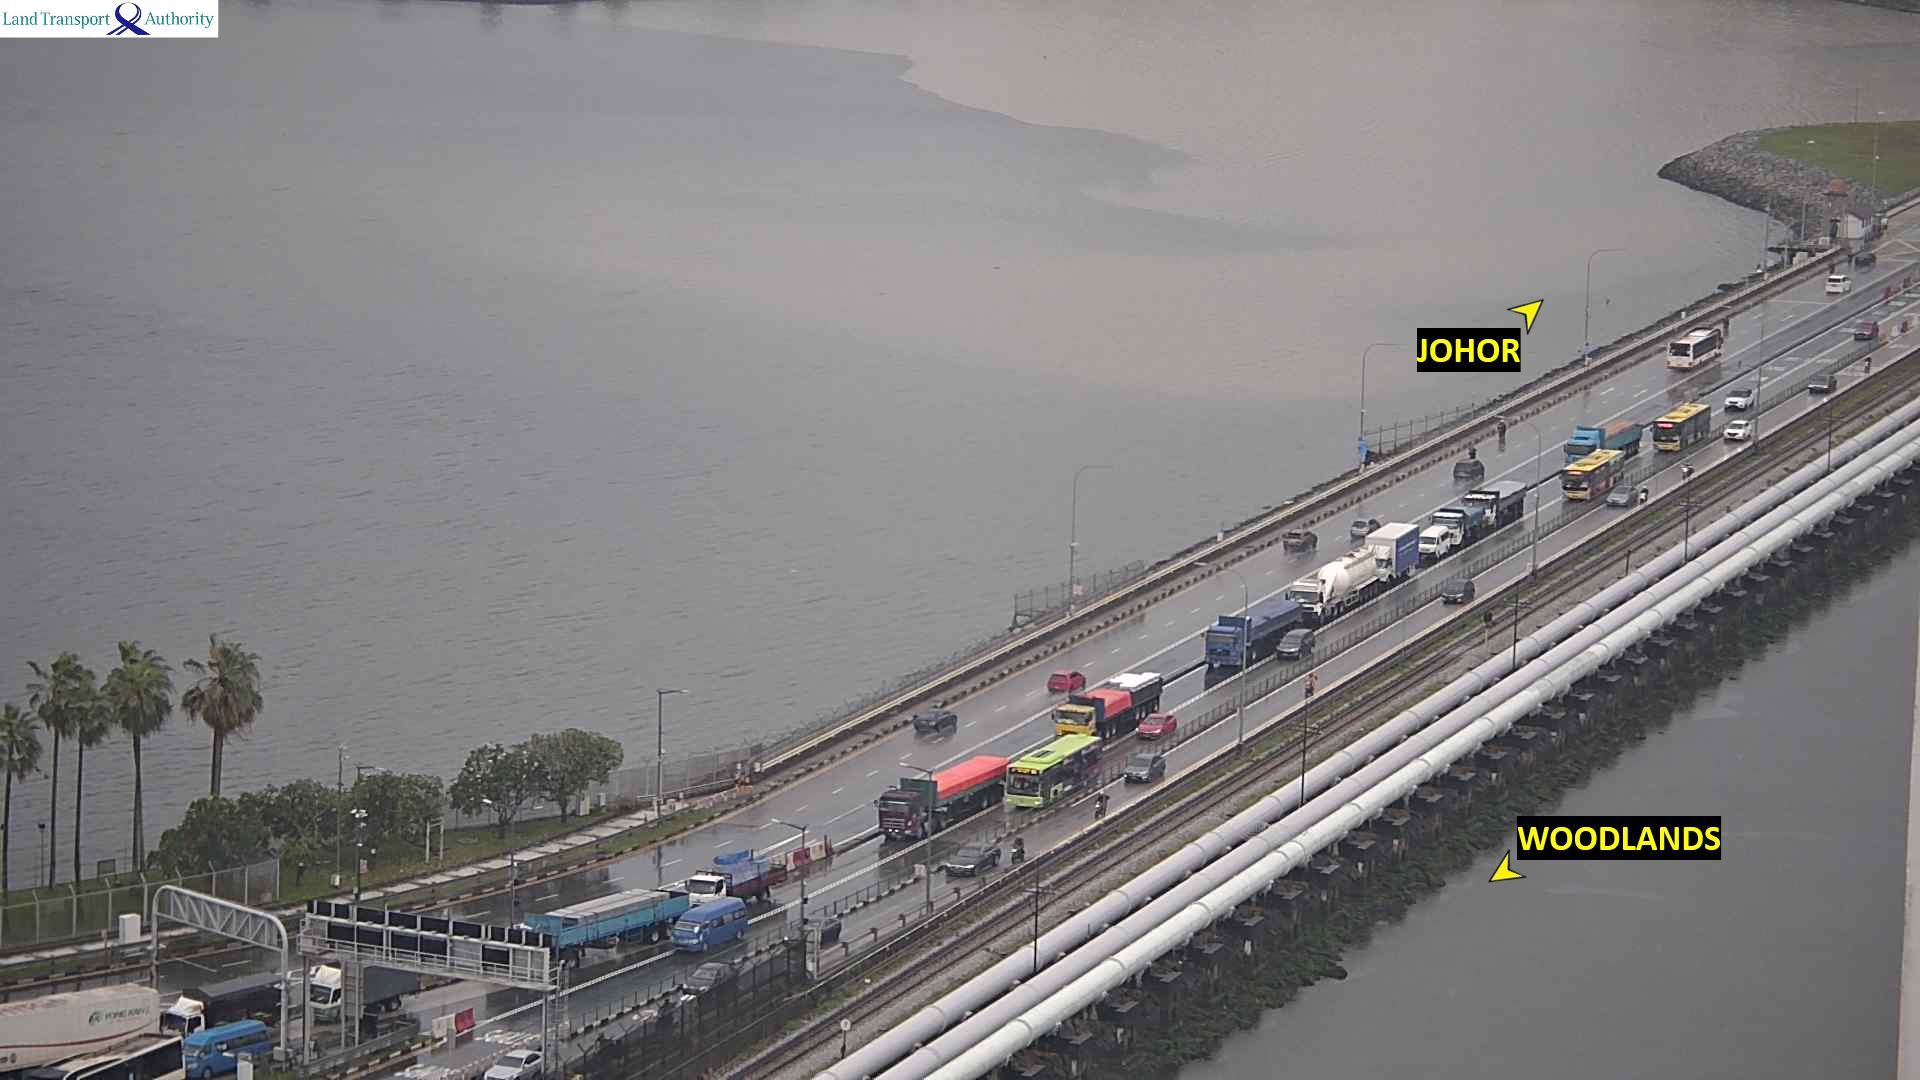vehicle-causeway-johor: (1668, 333, 1724, 370), (914, 711, 955, 734), (1047, 669, 1084, 690), (1284, 530, 1317, 550), (1454, 461, 1485, 479), (1827, 275, 1849, 295), (1350, 518, 1376, 534), (1852, 250, 1876, 266), (1498, 419, 1507, 437), (1469, 444, 1476, 459), (1722, 316, 1730, 329)
vehicle-causeway-singapore: (490, 891, 761, 981), (0, 984, 155, 1080), (877, 756, 1006, 830), (314, 962, 464, 1016), (29, 1037, 182, 1080), (1055, 677, 1164, 736), (155, 983, 280, 1034), (1203, 604, 1309, 664), (688, 846, 788, 909), (1291, 553, 1376, 615), (1009, 738, 1106, 788), (176, 1025, 274, 1071), (671, 899, 747, 954), (1563, 419, 1647, 454), (1366, 524, 1420, 574), (1463, 481, 1528, 521), (1562, 452, 1631, 489), (1654, 405, 1714, 440), (947, 841, 1003, 875), (482, 1051, 542, 1080), (1432, 508, 1481, 541), (1124, 755, 1171, 783), (1278, 630, 1315, 658), (1419, 526, 1449, 557), (1138, 716, 1176, 739), (1442, 579, 1475, 602), (1725, 388, 1753, 410), (1724, 420, 1752, 440), (1808, 374, 1835, 393), (1855, 319, 1880, 339), (1608, 488, 1636, 505), (1091, 790, 1108, 816), (1011, 835, 1027, 860), (1863, 355, 1871, 372), (1640, 486, 1648, 502)
